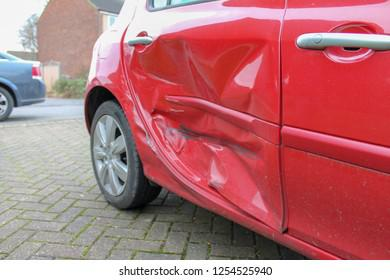doorouter-dent: (133, 1, 283, 175)
